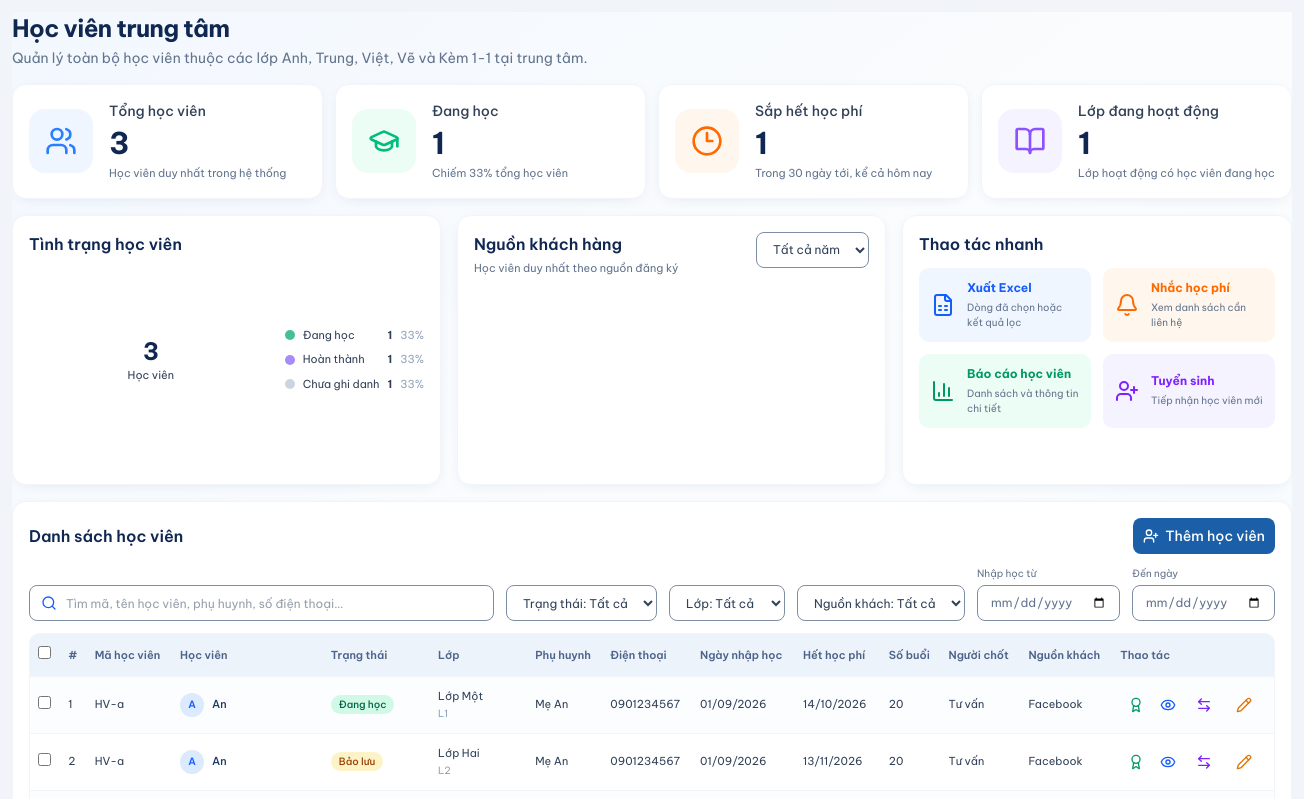
student dashboard interactions › combines class/status/date/search filters without changing overview totals
The width and height of the screenshot is (1304, 799).
Select "Lớp Hai · L2" in the dropdown named "Lọc lớp học viên" at coordinates (727, 603), box [669,585,785,621]
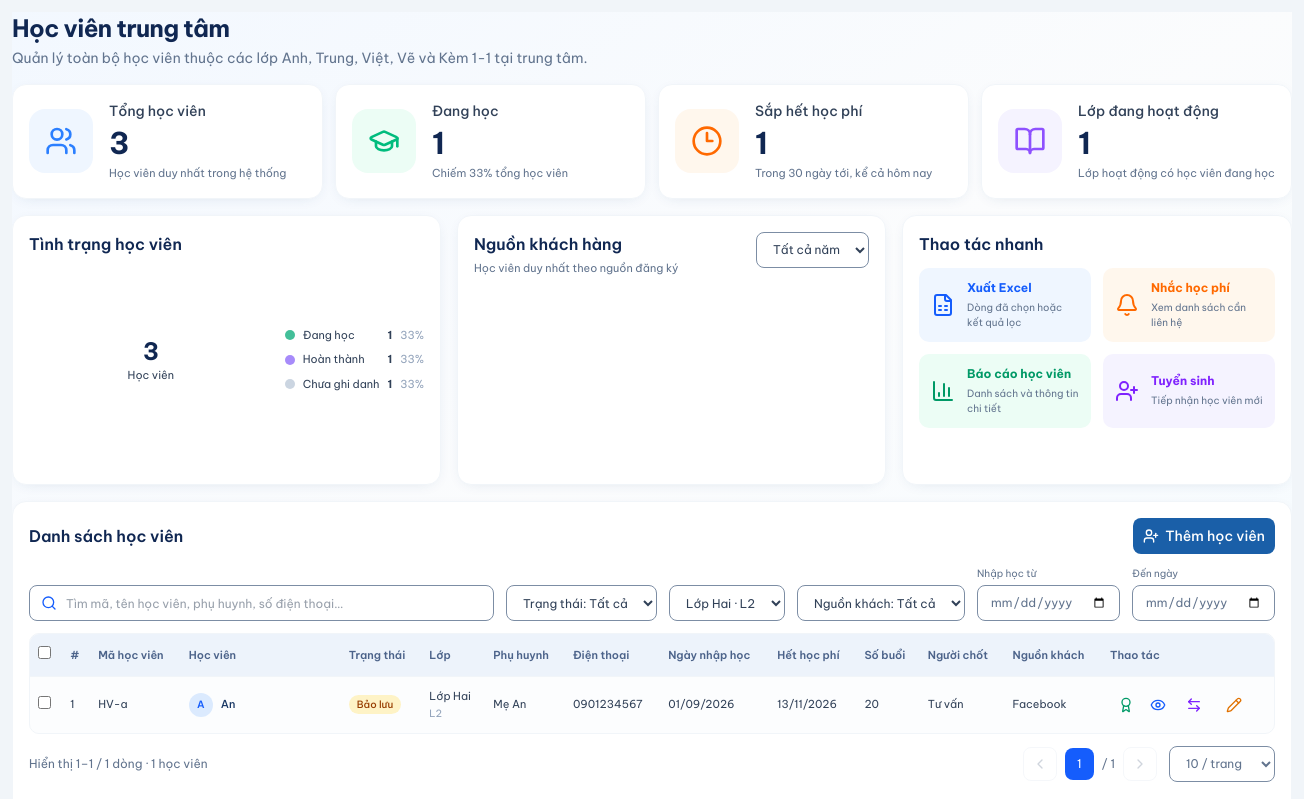
Select "Bảo lưu" in the dropdown named "Trạng thái học viên" at coordinates (582, 603), box [506,585,657,621]
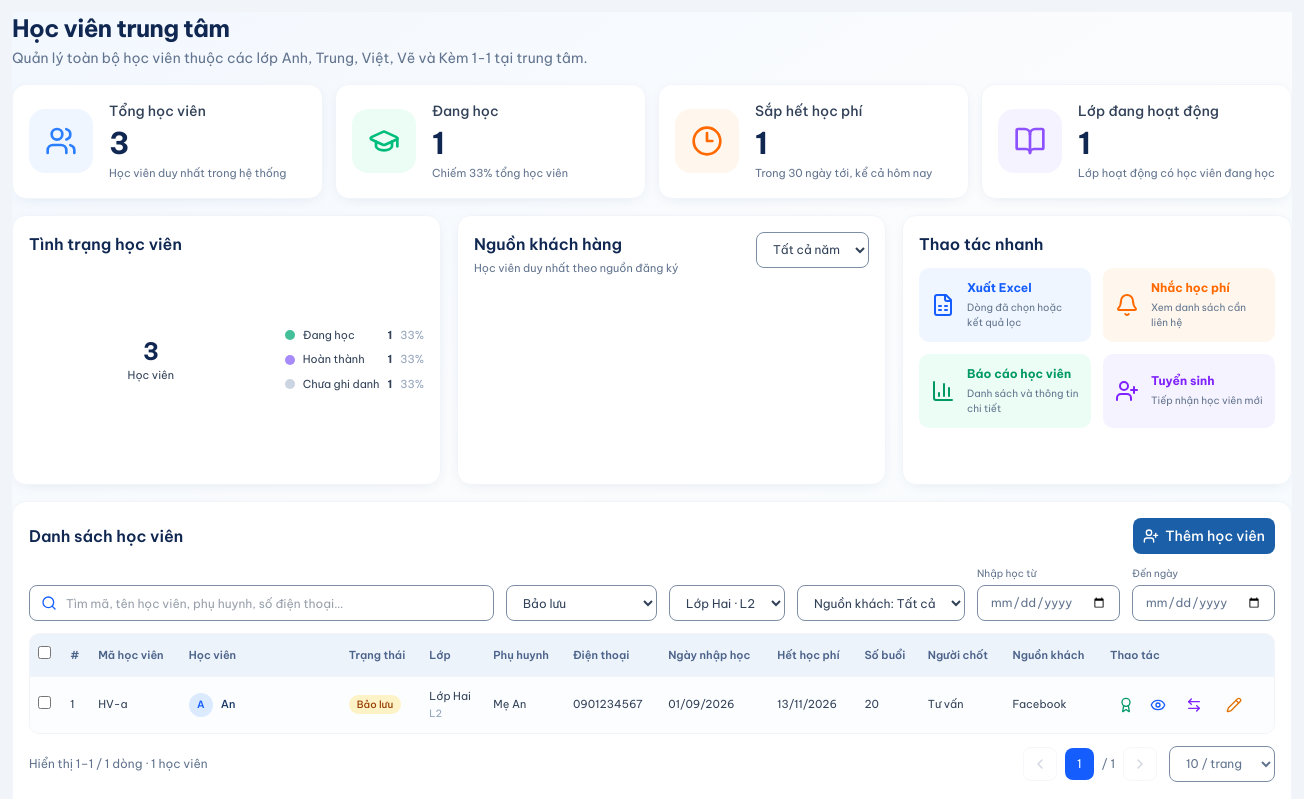
Type "Mẹ An" into the field named "Tìm học viên" at coordinates (262, 603), box [29,585,494,621]
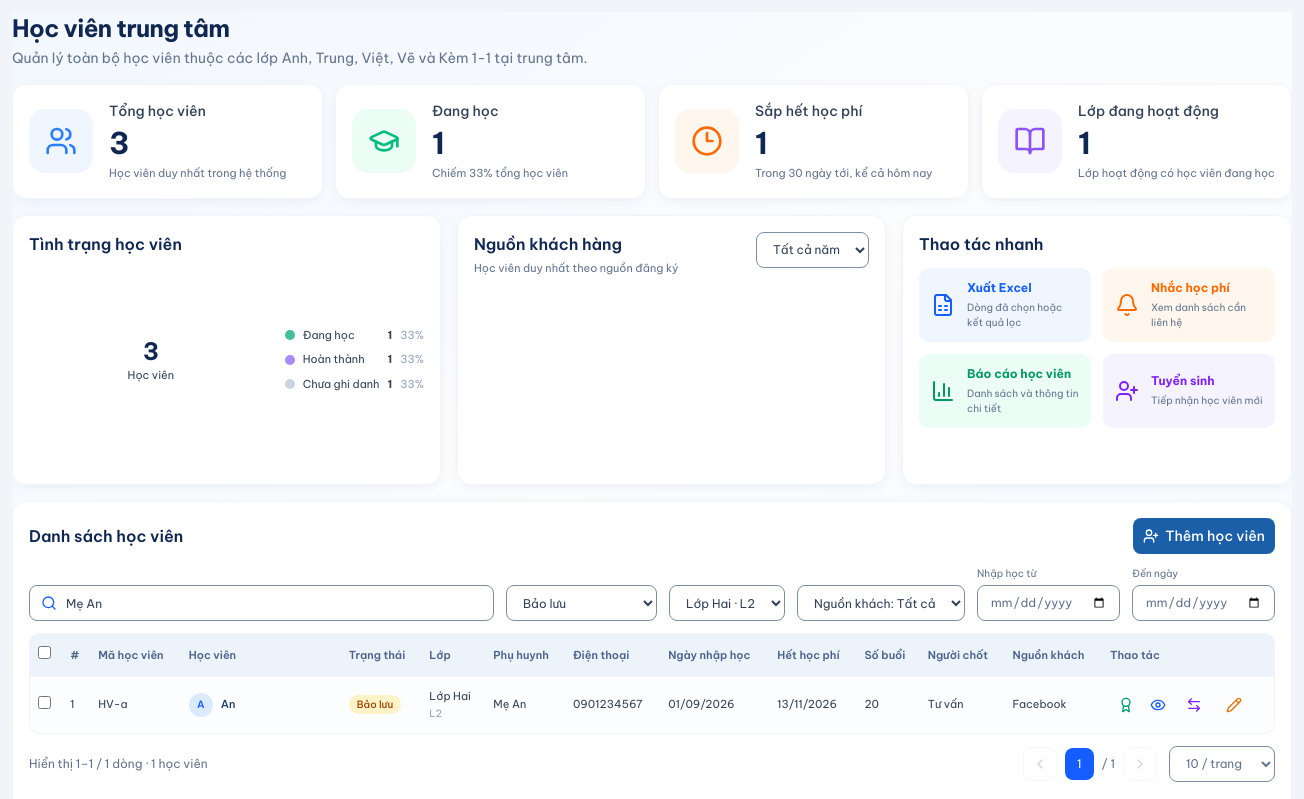
Expected: the number of rows is 2, [30,634,1275,676]; [30,676,1275,732]
Expected: the text "Lớp Hai" is shown, [429,689,471,703]
Type "2026-10-01" into the date field named "Ngày nhập học từ" at coordinates (1048, 603), box [977,585,1120,621]
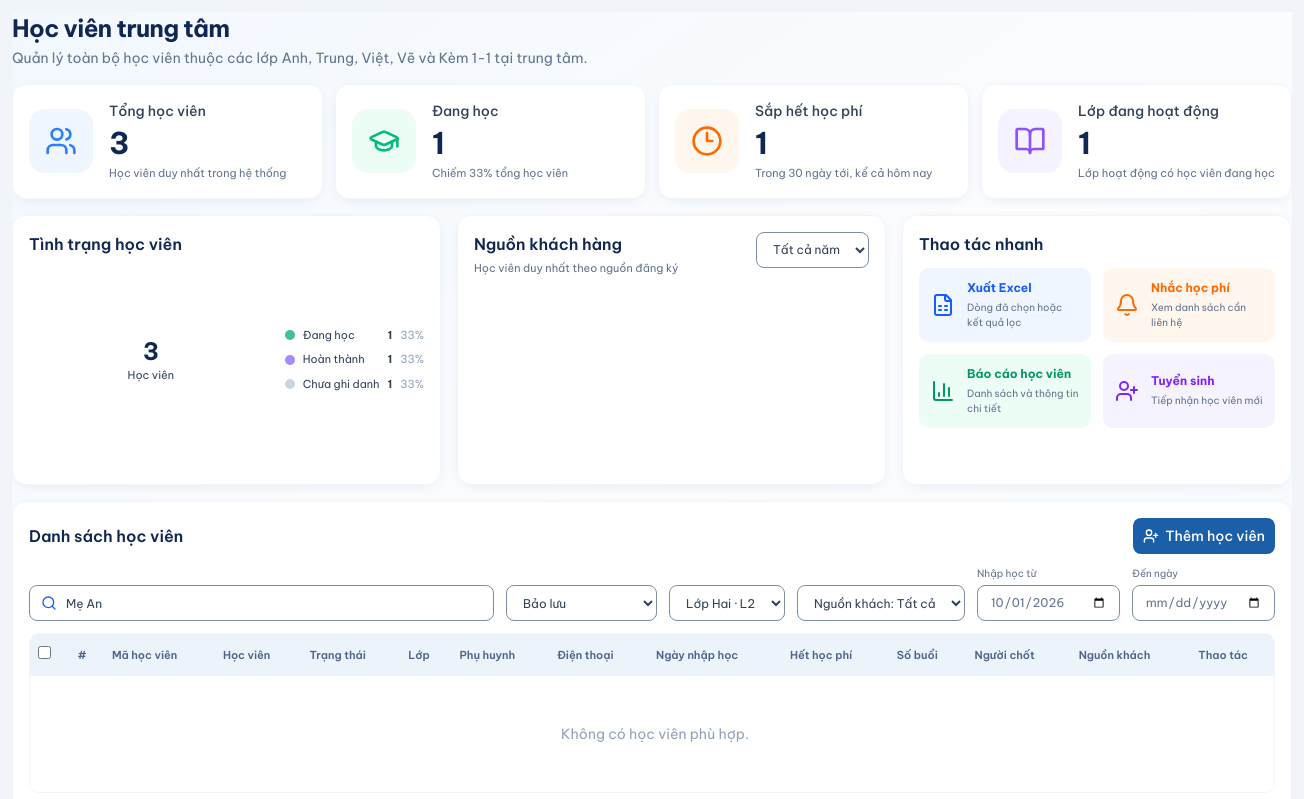
Expected: the 1st text "3" is shown, [109,124,129,162]
Expected: the text "Không có học viên phù hợp." is shown, [30,676,1275,792]
